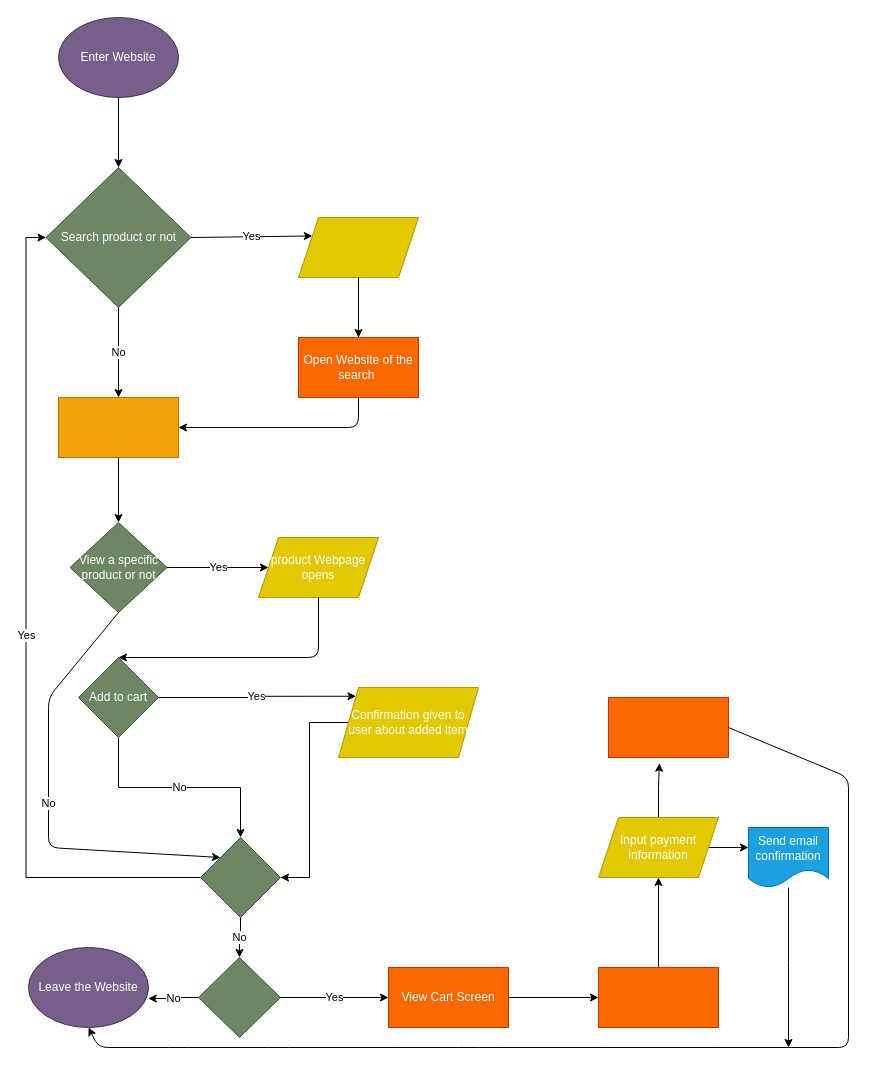
This 874x1073 diagram has some shape labels left out. Each missing label, with the centre of its shape:
Checkout or not: (x=239, y=997)
Continue Shopping: (x=240, y=877)
Input for search: (x=358, y=247)
Looking over products: (x=118, y=427)
Order confirmation Screen: (x=668, y=727)
View payment Screen: (x=658, y=997)
